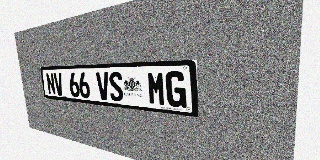6: (78, 72, 91, 98), (68, 72, 80, 97)
G: (165, 71, 187, 108)
M: (147, 71, 166, 106)
N: (46, 73, 56, 95)
S: (108, 72, 124, 102)
V: (96, 72, 110, 100), (53, 73, 64, 96)
